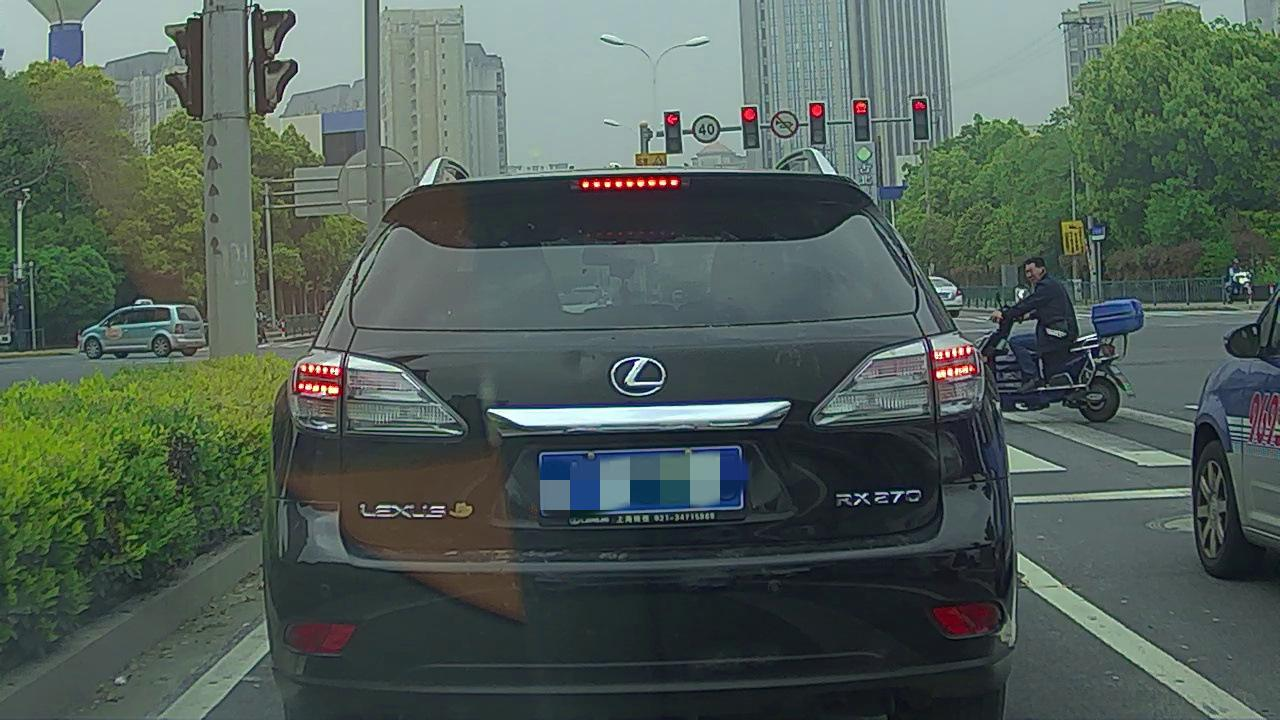traffic_light: (664, 110, 682, 154), (911, 96, 928, 141), (854, 99, 871, 143), (742, 107, 760, 148), (811, 102, 827, 143)
